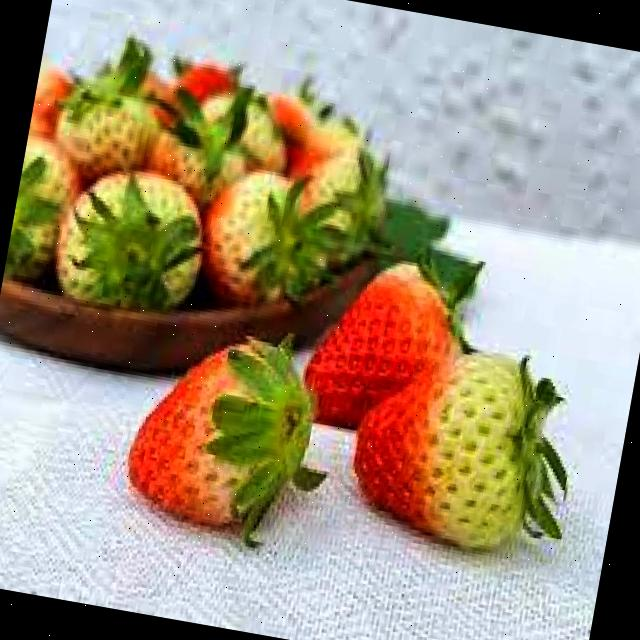strawberry: (342, 332, 553, 553), (120, 326, 312, 538), (298, 247, 466, 442)
